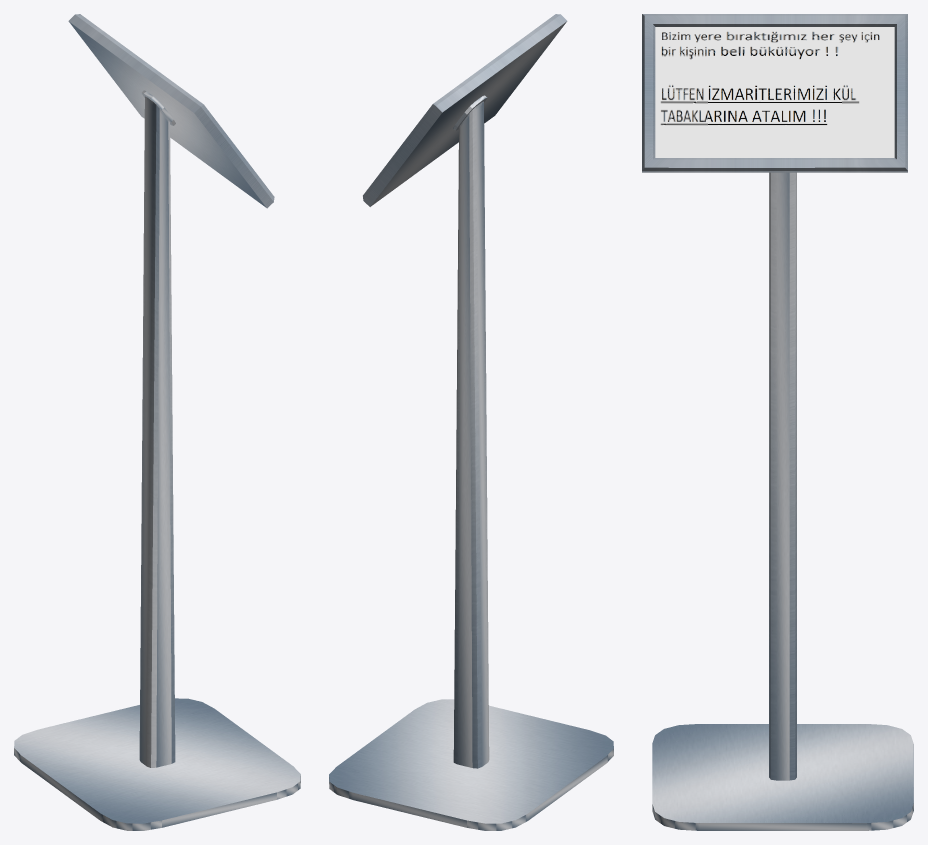
File: tablelas.FBX
3 renders of one model, left to right at view 1: azimuth 30°, elevation 25°; view 2: azimuth 150°, elevation 25°; view 3: azimuth 270°, elevation 25°, orthographic. The views are drawn at different scales.
Parts seen in each view (by area): view 1: Box001, Box002, Plane001; view 2: Box001, Box002, Plane001; view 3: pano, Box001, Box002, Plane001.
Part boxes in pixels (x1,y1,x2,y2): Box001: (14,698,300,830); Box002: (139,90,175,767); Plane001: (68,14,274,208); Box001: (329,699,613,830); Box002: (453,95,489,768); Plane001: (363,14,567,206); pano: (655,27,894,157); Box001: (652,724,913,830); Box002: (769,172,796,780); Plane001: (642,14,907,172).
Bounding box in the file's own units: 6.67 × 23.69 × 7.72.
4 materials, 4 textured.
